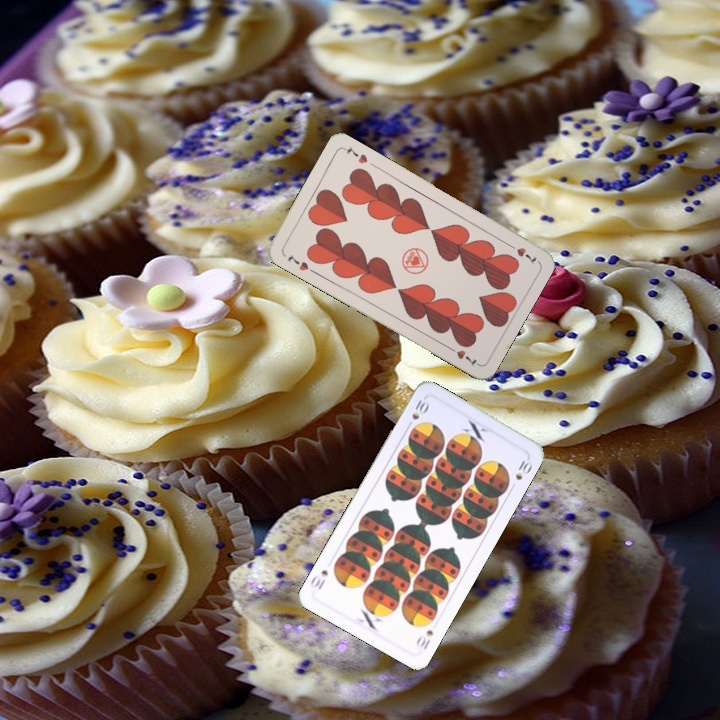H7: (503, 239, 540, 267), (284, 250, 311, 273)
S10: (402, 396, 431, 431), (412, 626, 436, 652)
